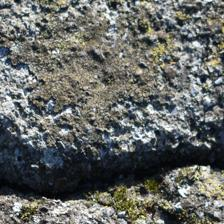Crack: (4, 56, 214, 152)
